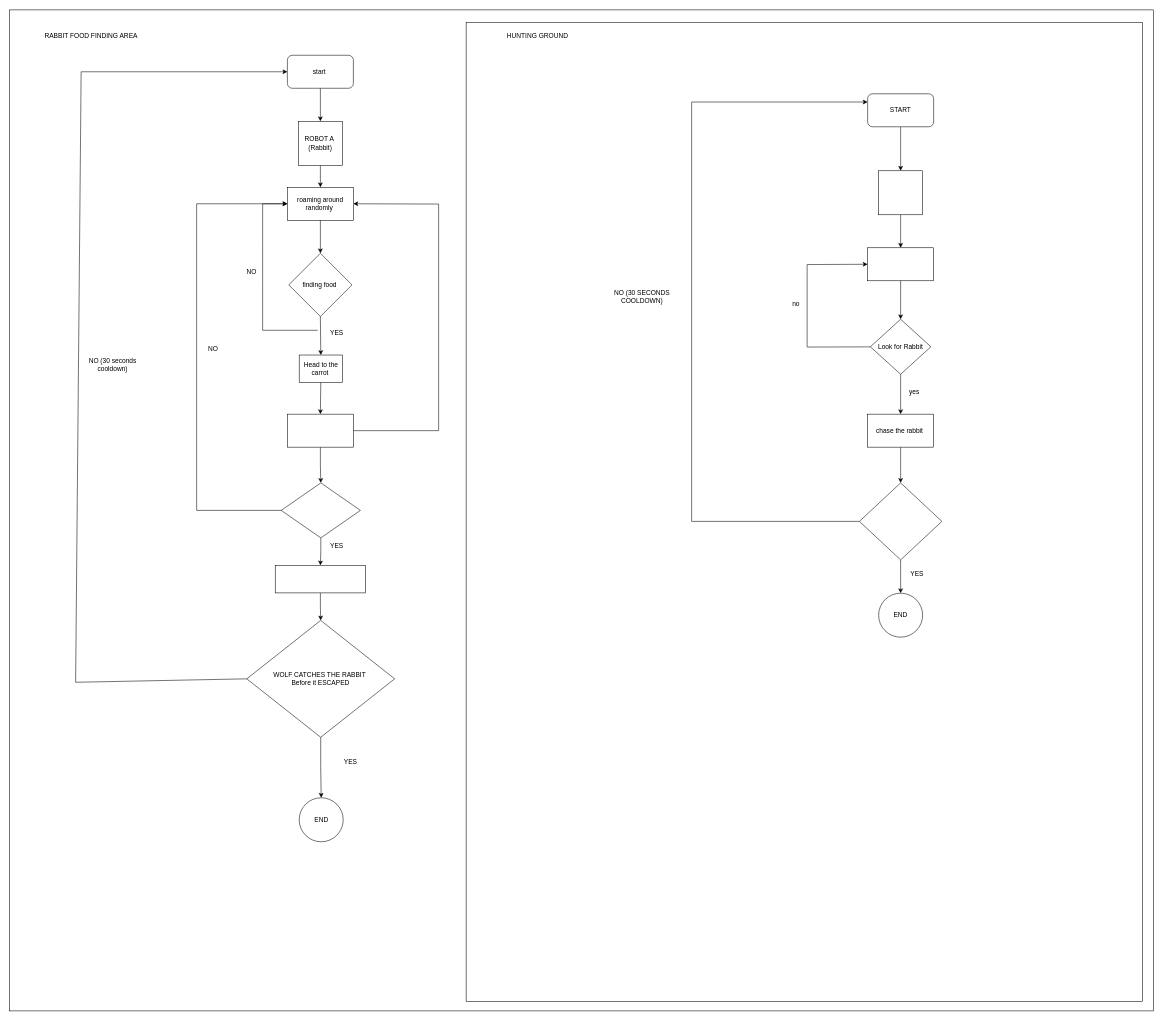
Some shapes in this 1163 by 1020 pixel diagram are drawn without their labels. Each missing label, with the centre of its shape:
eat the carrot: the point at 320,430
ROBOT B Wolf: the point at 900,192
RUN AWAY: the point at 320,579
SPIN around (INSIDE HUNTING GROUND): the point at 900,264
SPOT A WOLF: the point at 320,510
WOLF catches the rabbit: the point at 900,521
